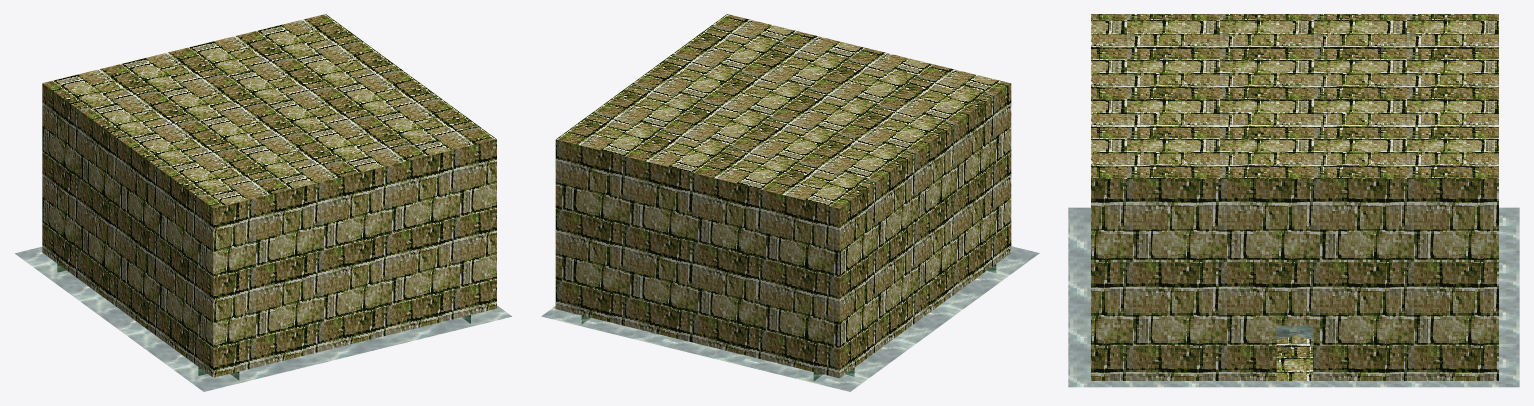
File: room7.obj
The picture shows the model from 3 angles, left to right: view 1: azimuth 30°, elevation 25°; view 2: azimuth 150°, elevation 25°; view 3: azimuth 270°, elevation 25°; orthographic projection. The views are drawn at different scales.
Visible parts, largest first — view 1: mesh.006_mesh.006__42.005, mesh.006_mesh.006__24.005; view 2: mesh.006_mesh.006__42.005, mesh.006_mesh.006__24.005; view 3: mesh.006_mesh.006__42.005, mesh.006_mesh.006__24.005, mesh.006_mesh.006__51.
Part boxes in pixels (x1=…): mesh.006_mesh.006__42.005: x1=42, y1=14, x2=496, y2=377; mesh.006_mesh.006__24.005: x1=15, y1=247, x2=511, y2=391; mesh.006_mesh.006__42.005: x1=555, y1=14, x2=1011, y2=378; mesh.006_mesh.006__24.005: x1=541, y1=246, x2=1039, y2=391; mesh.006_mesh.006__42.005: x1=1091, y1=14, x2=1498, y2=380; mesh.006_mesh.006__24.005: x1=1068, y1=207, x2=1519, y2=387; mesh.006_mesh.006__51: x1=1276, y1=326, x2=1313, y2=339.
Bounding box in the file's own units: 697 × 398 × 741.
Materials: 4 (4 with a texture image).
